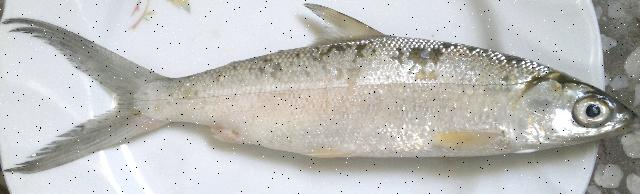Mulut: (558, 90, 640, 154)
Sirip Anal: (188, 118, 256, 164)
Sirip Dada: (422, 119, 520, 170)
Sirip Ekor: (0, 7, 180, 188)
Sirip Perut: (283, 138, 371, 172)
Sirip Punggung: (278, 1, 397, 54)
